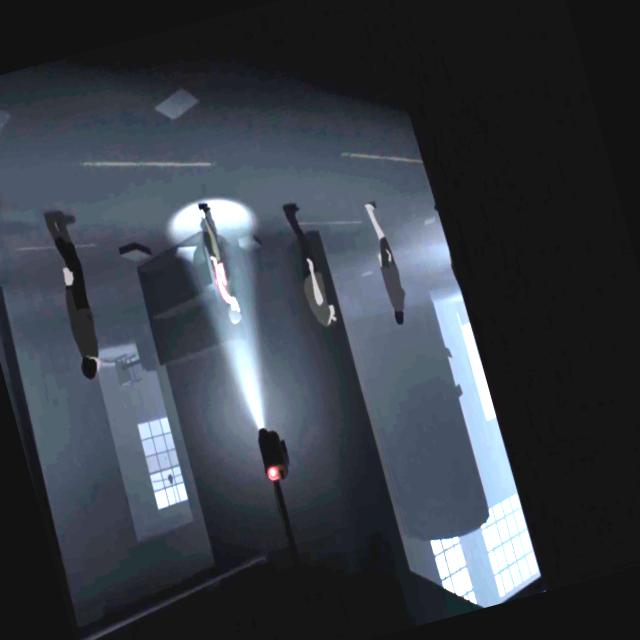boy: (192, 197, 242, 324)
zombie: (38, 205, 113, 379), (280, 198, 342, 336), (362, 198, 412, 326)
